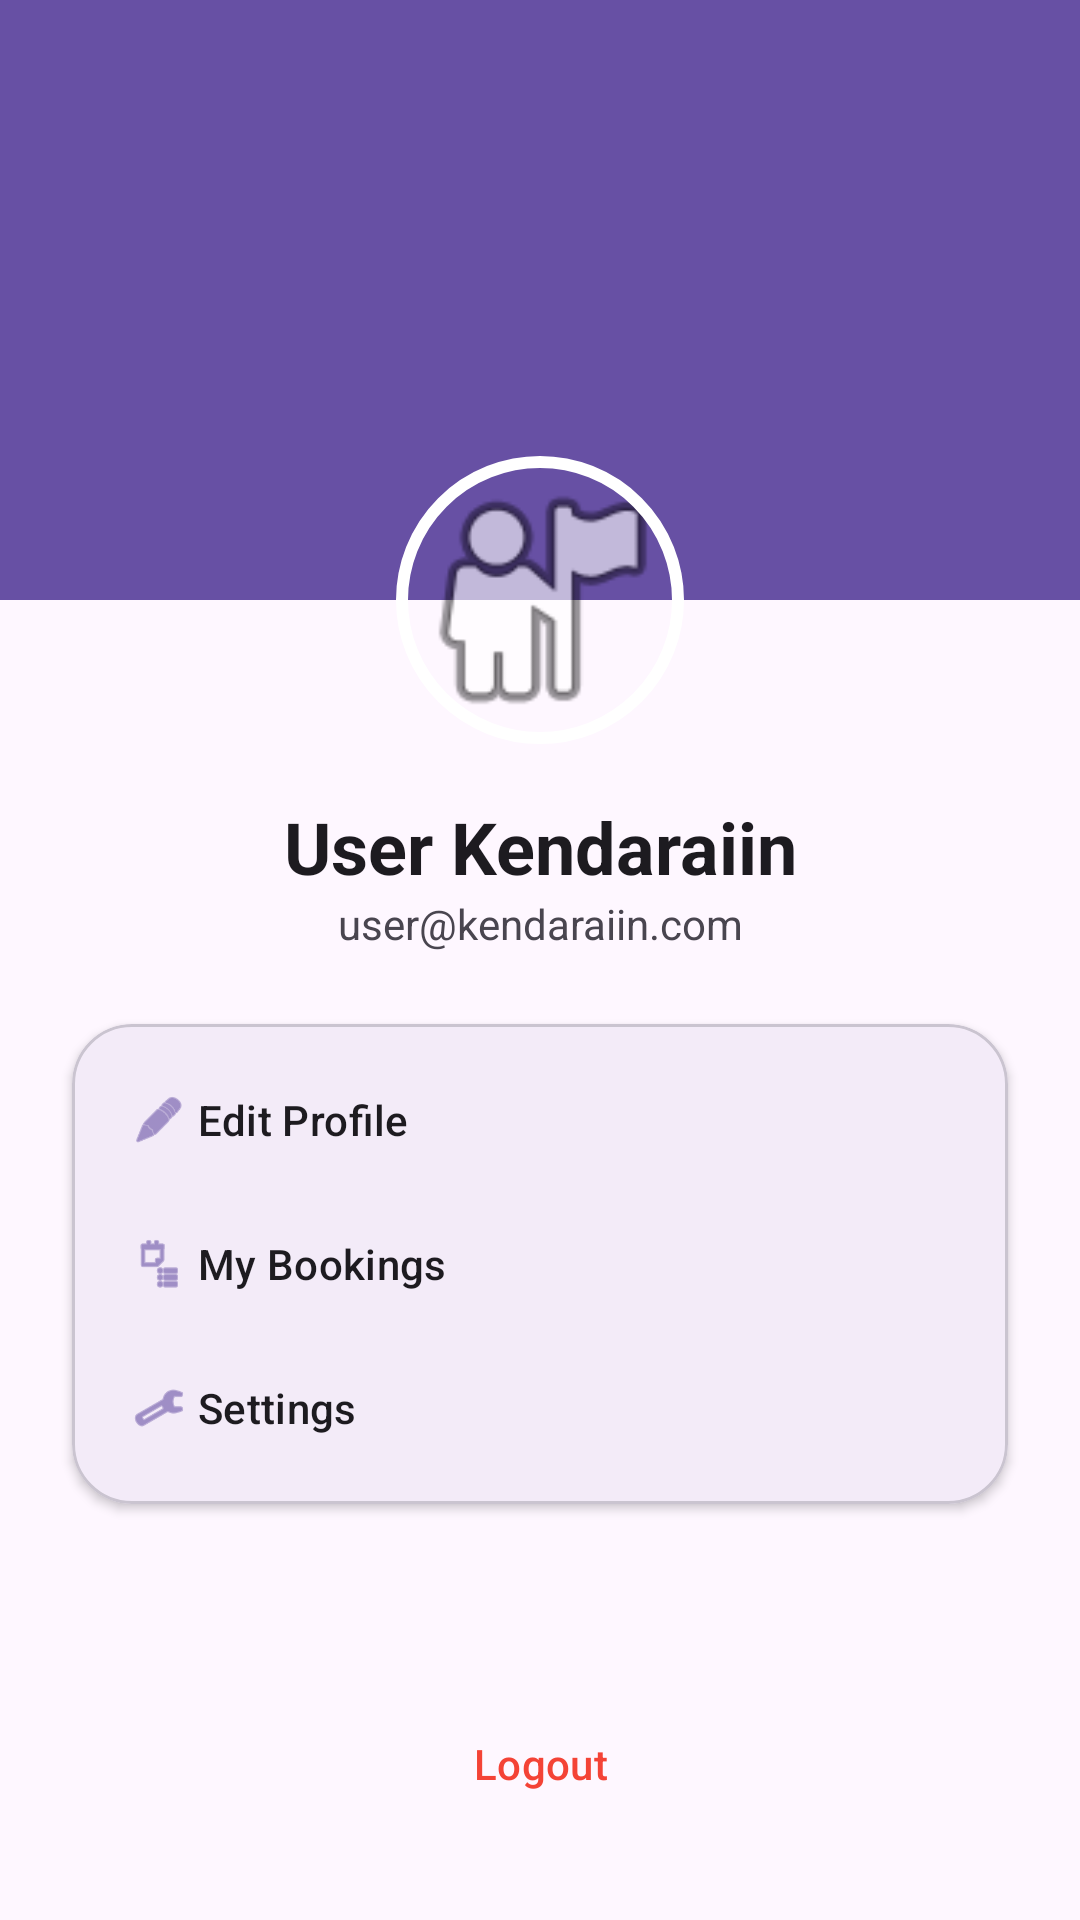

Screen size 1080w x 1920h. Icon name, then its center in pixels as point (x, y):
myplaces: point (540, 600)
